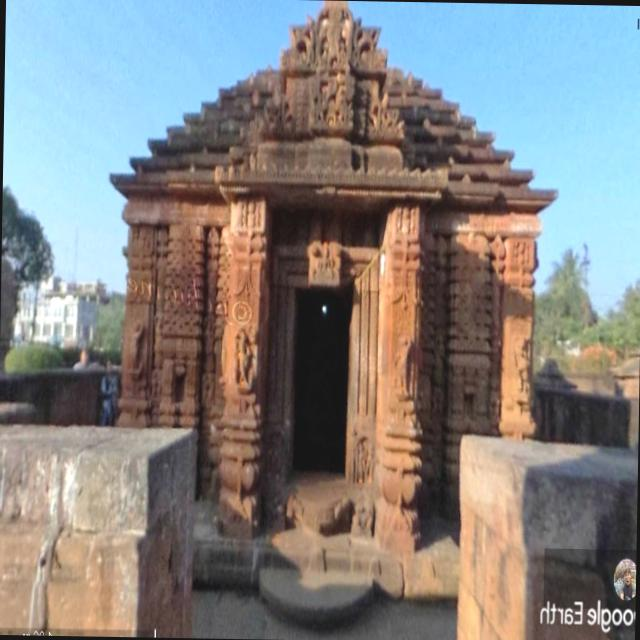objects-ruins-artifacts: (120, 68, 531, 426)
